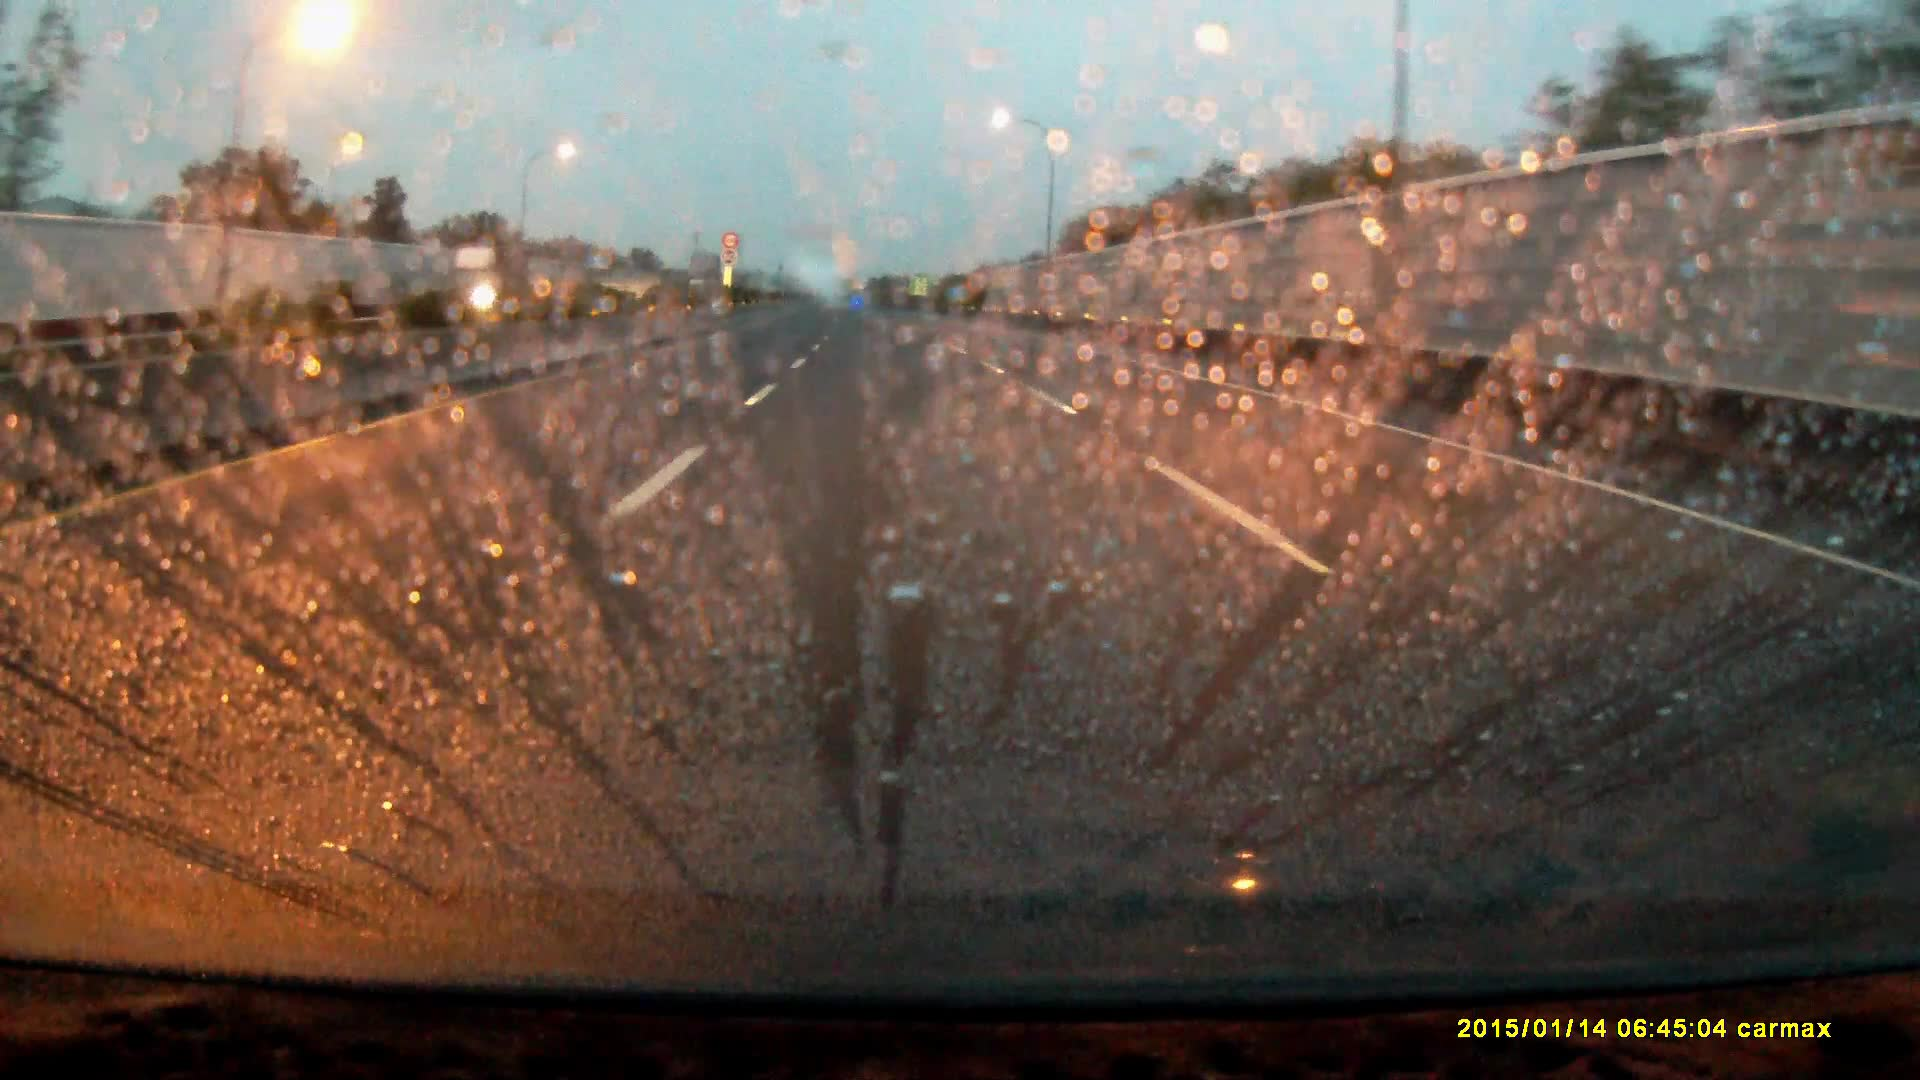vehicle: (447, 248, 533, 314)
